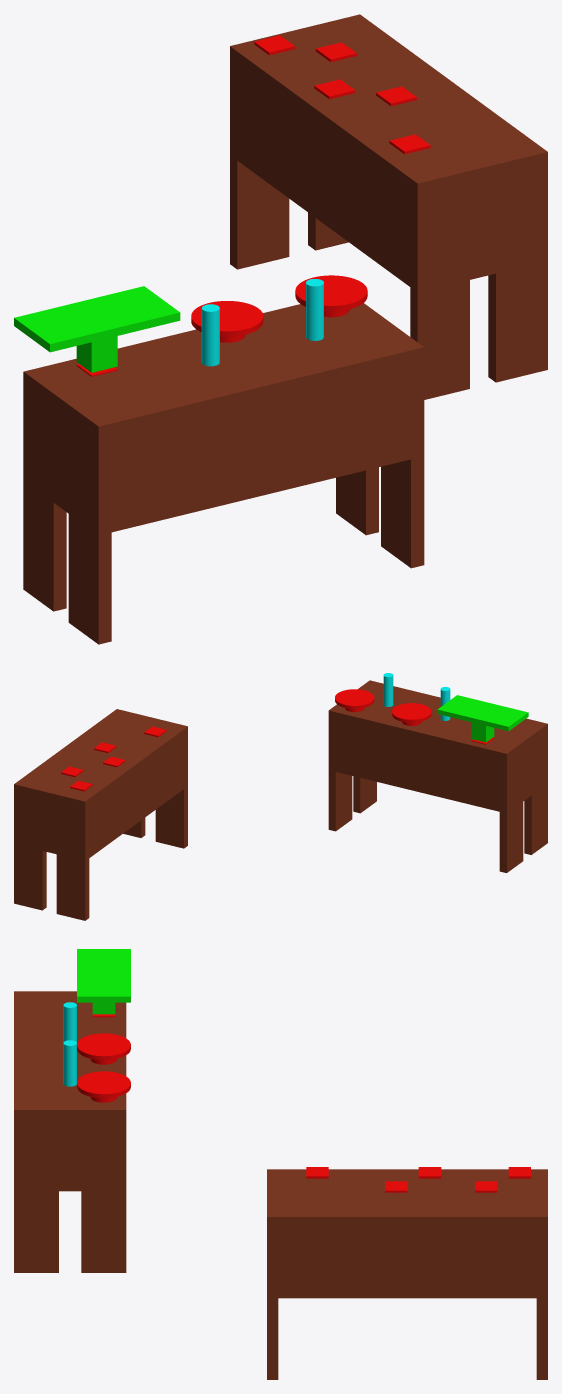
File: new_env.dae
3 views of the same model, one above another, from view 1: azimuth 30°, elevation 25°; view 2: azimuth 150°, elevation 25°; view 3: azimuth 270°, elevation 25° (orthographic). The views are drawn at different scales.
Parts seen in each view (by area): view 1: base (×16); view 2: base (×14); view 3: base (×11).
Part boxes in pixels (<box>): base (×16): <box>14,14,547,644</box>; base (×14): <box>14,673,547,920</box>; base (×11): <box>14,949,547,1379</box>.
Bounding box in the file's own units: 2.4 × 2.38 × 1.
